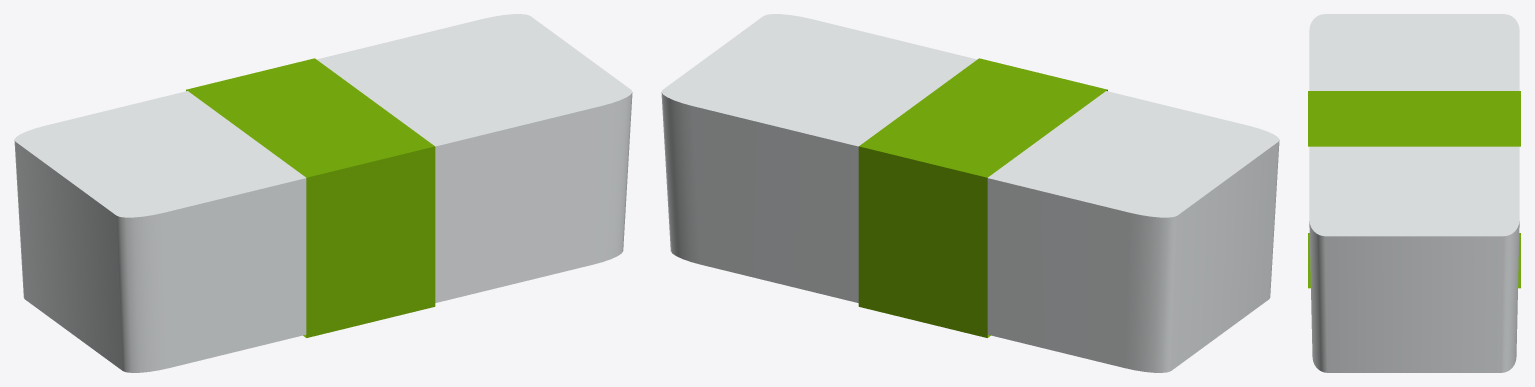
File: item-egg_10.glb
3 renders of one model, left to right at view 1: azimuth 30°, elevation 25°; view 2: azimuth 150°, elevation 25°; view 3: azimuth 270°, elevation 25°, orthographic. The views are drawn at different scales.
Visible parts, largest first — view 1: body, label; view 2: body, label; view 3: body, label.
Part boxes in pixels (x1=…): body: x1=14, y1=14, x2=632, y2=372; label: x1=186, y1=58, x2=435, y2=337; body: x1=661, y1=14, x2=1279, y2=372; label: x1=858, y1=58, x2=1107, y2=337; body: x1=1309, y1=14, x2=1519, y2=372; label: x1=1308, y1=91, x2=1520, y2=288.
Bounding box in the file's own units: 0.245 × 0.0729 × 0.0992.
